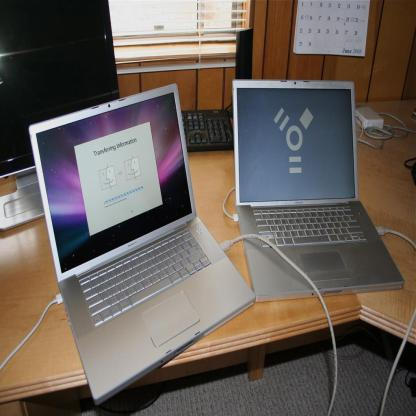board: (28, 84, 256, 406), (232, 80, 404, 301)
